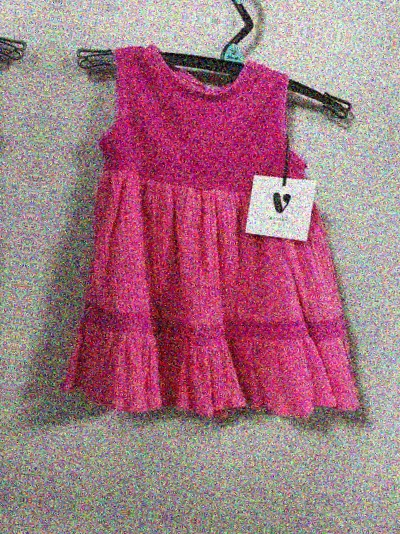Dress: (27, 19, 400, 446), (0, 0, 35, 400), (79, 0, 400, 28)
